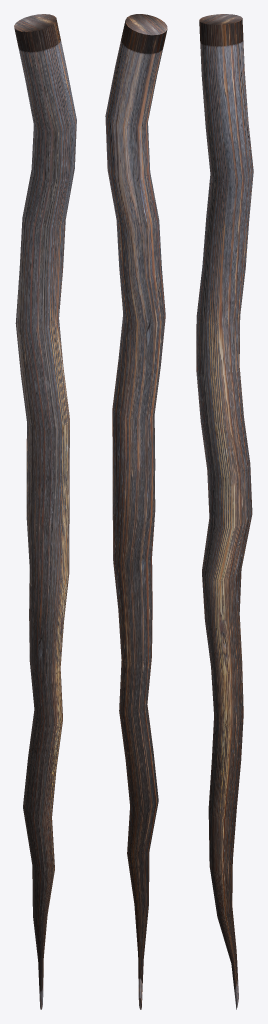
The model's file is stem4.fbx.
3 views of the same model, side by side, from view 1: azimuth 30°, elevation 25°; view 2: azimuth 210°, elevation 25°; view 3: azimuth 330°, elevation 25° (orthographic).
Parts seen in each view (by area): view 1: pCylinder9; view 2: pCylinder9; view 3: pCylinder9.
Part boxes in pixels (box(x1,y1,x2,y2)): pCylinder9: box(14, 14, 76, 1009); pCylinder9: box(105, 14, 167, 1009); pCylinder9: box(196, 14, 253, 1009).
Bounding box in the file's own units: 0.5525 × 10.08 × 0.5231.
1 material, 1 textured.
